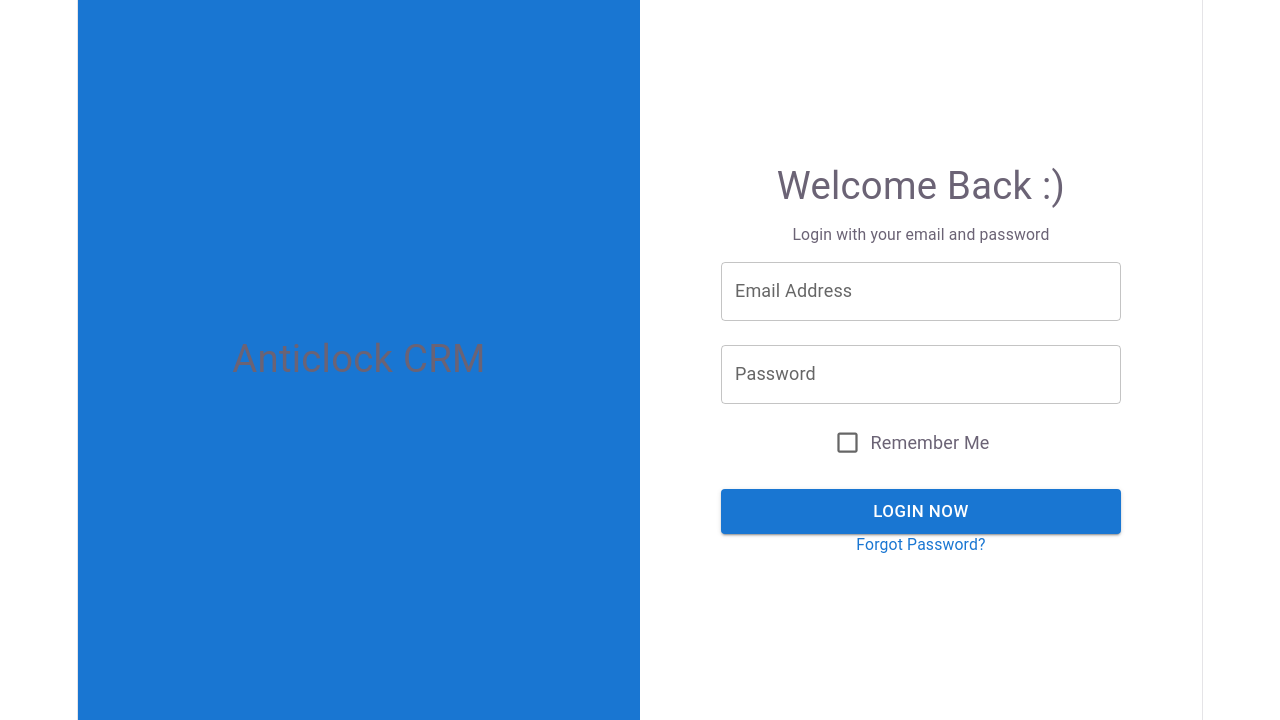
it: LoginPage › shows validation error for short password
Type "user@crm.com" into the field labelled "Email Address". click: (921, 292)
box: [721,262,1121,321]
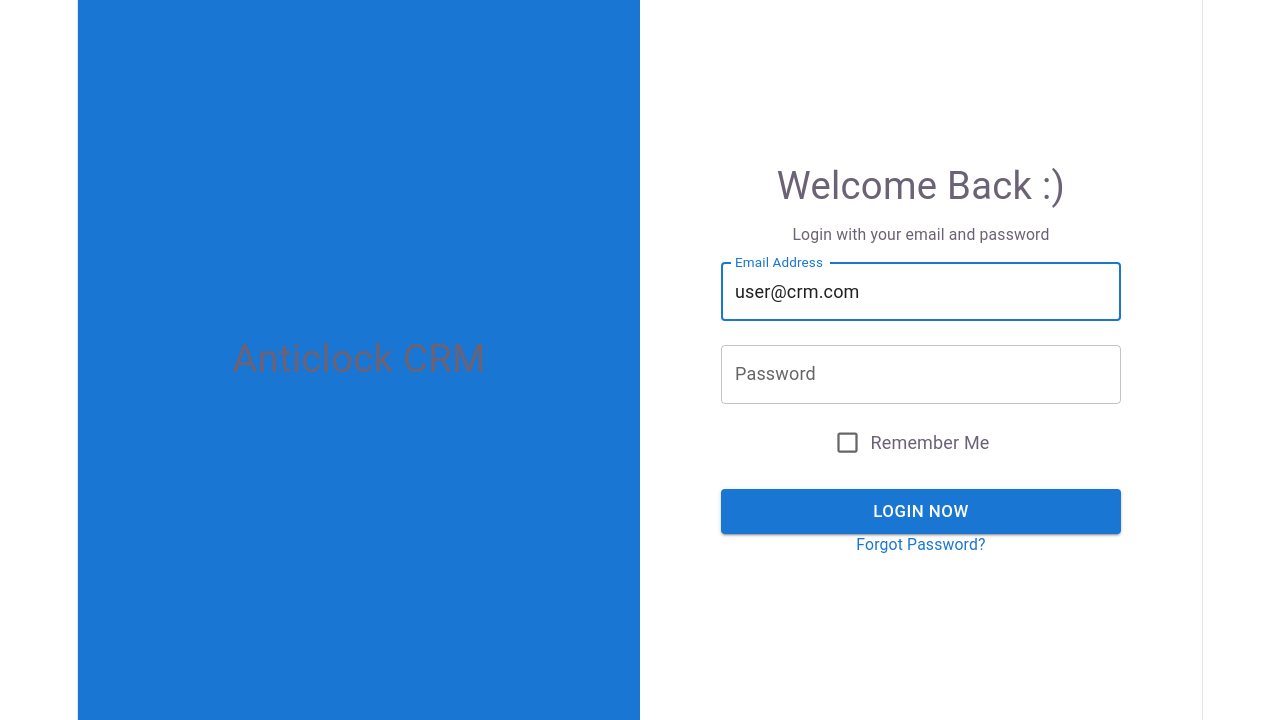
Type "abc" into the password field labelled "Password". click: (921, 374)
box: [721,345,1121,404]
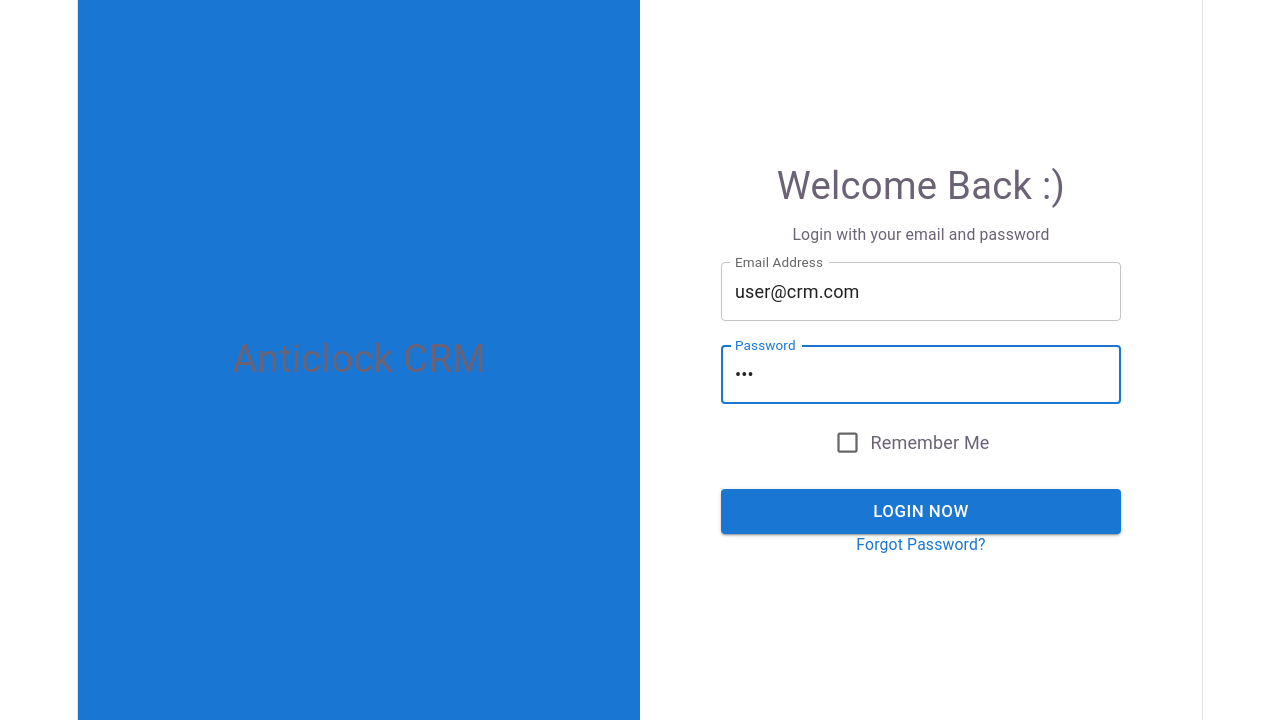
Click the button "Login Now". click: (921, 512)
box: [721,489,1121,534]
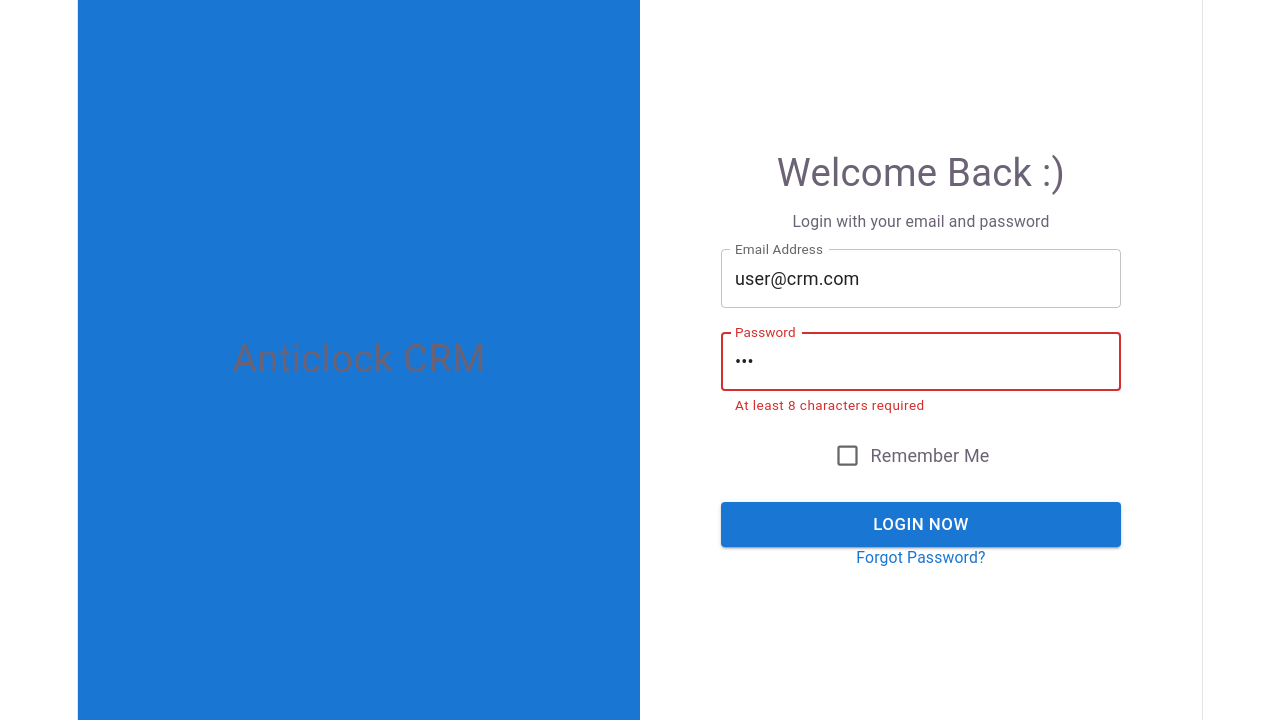
Expected: the text "At least 8 characters required" is shown, [735,397,925,413]
